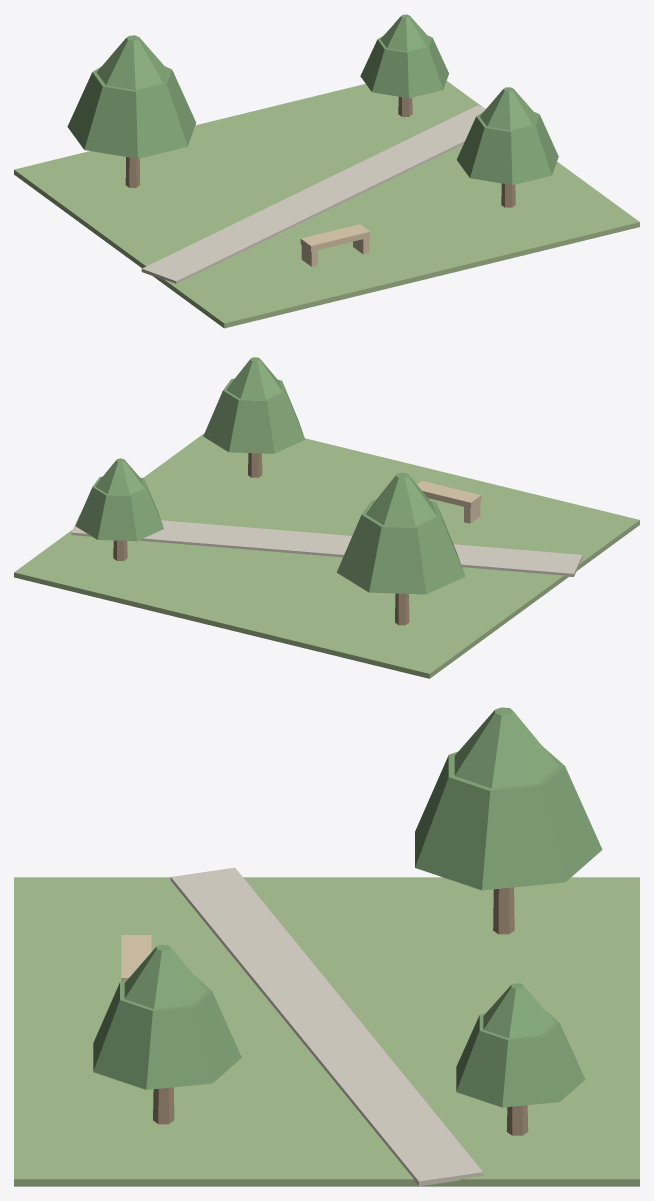
Rendered from plc_village_green.glb.
The picture shows the model from 3 angles, top to bottom: view 1: azimuth 30°, elevation 25°; view 2: azimuth 150°, elevation 25°; view 3: azimuth 270°, elevation 25°; orthographic projection. The views are drawn at different scales.
Visible parts, largest first — view 1: plc_village_green; view 2: plc_village_green; view 3: plc_village_green.
Boxes of the visible parts, x1=… form: plc_village_green: x1=14, y1=14, x2=639, y2=328; plc_village_green: x1=14, y1=357, x2=639, y2=678; plc_village_green: x1=14, y1=707, x2=639, y2=1186.
Size of the model in its own units: 1.86 by 0.6242 by 1.56.
